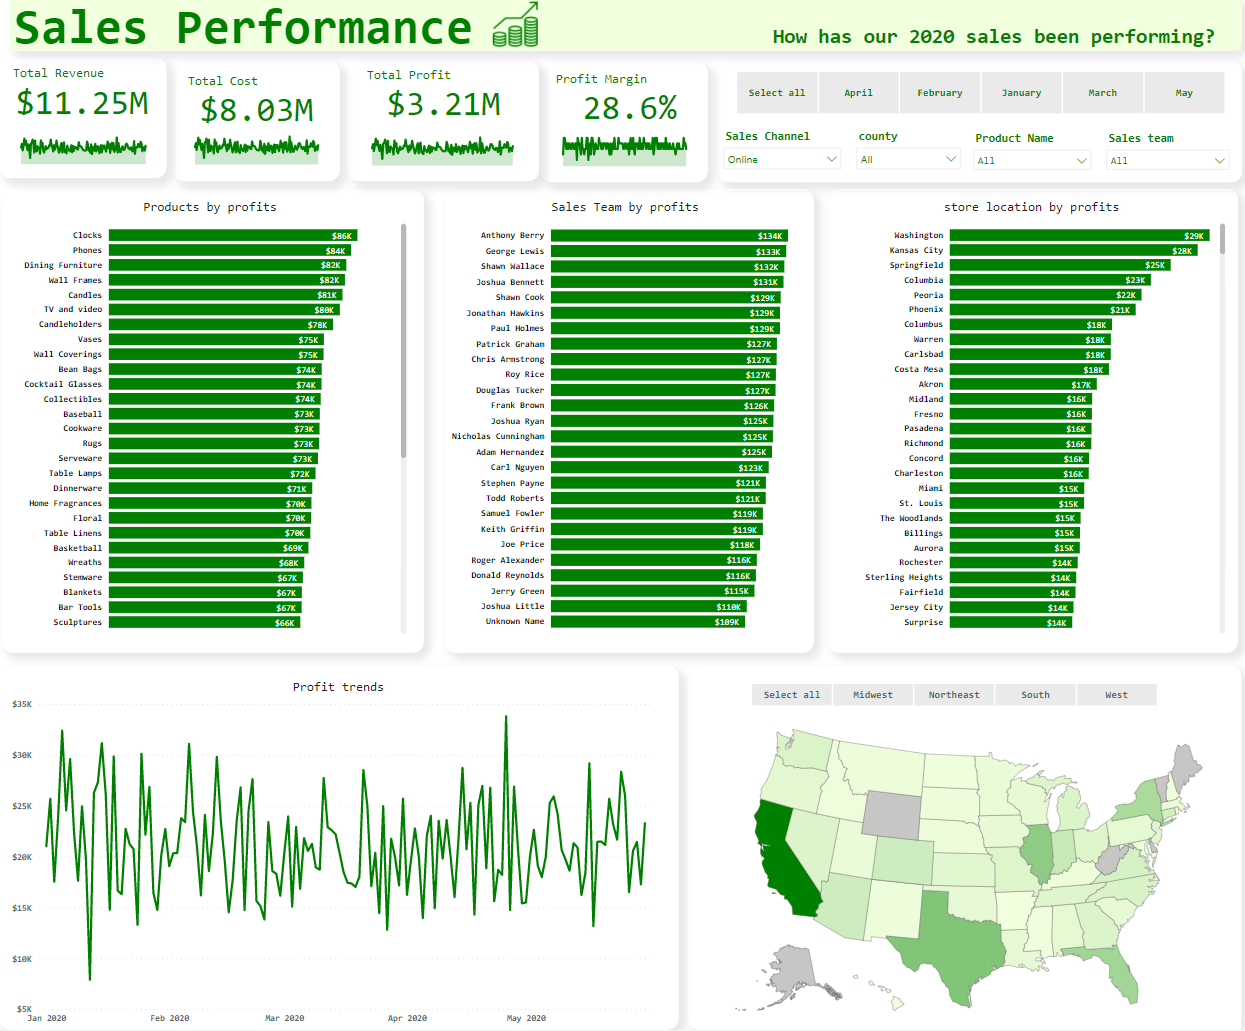

What the dashboard file says about the page in this screenshot:
{"tool":"powerbi","page":{"name":"Sales performance","canvas":[1700,1400],"ordinal":0},"visuals":[{"type":"shape","box":[974.7,86.8,711.1,163.3],"z":0},{"type":"shape","box":[933.9,906.7,751.9,493.3],"z":1000},{"type":"shape","box":[0,906.7,922,493.3],"z":2000},{"type":"shape","box":[605.6,258.6,500.1,629.4],"z":3000},{"type":"shape","box":[3.4,258.6,571.6,629.4],"z":4000},{"type":"shape","box":[1124.4,258.6,556.3,629.4],"z":5000},{"type":"shape","box":[236.2,84.8,226.2,163.3],"z":6000},{"type":"shape","box":[734.9,86.8,226.2,163.3],"z":7000},{"type":"shape","box":[472.9,85.1,258.6,163.3],"z":8000},{"type":"shape","box":[0,80.5,227.2,164.3],"z":9000},{"type":"card","title":"Total Revenue","fields":{"Values":["Sales.Total Revenue"]},"box":[13.2,90.4,198.5,72.8],"z":10000},{"type":"stackedAreaChart","fields":{"Y":["Sales.Total Revenue"],"Category":["Sales.Sales Date"]},"box":[15.3,165,199,66.3],"z":11000},{"type":"card","title":"Total Profit","fields":{"Values":["Sales.Total Profit"]},"box":[493.3,93.6,219.4,73.1],"z":12000},{"type":"stackedAreaChart","fields":{"Y":["Sales.Total Profit"],"Category":["Sales.Sales Date"]},"box":[491.6,168.4,221.1,64.6],"z":13000},{"type":"barChart","title":"Products by profits","fields":{"Category":["Products.Product Name"],"Y":["Sales.Total Profit"]},"box":[15.3,272.2,542.6,595.4],"z":14000},{"type":"shapeMap","fields":{"Category":["Regions.State"],"Value":["Sales.Total Revenue"]},"box":[947.5,966.2,738.3,433.8],"z":15000},{"type":"barChart","title":"Sales Team by profits","fields":{"Y":["Sales.Total Profit"],"Category":["Sales_Team.Sales Team"]},"box":[607.3,272.2,483.1,595.4],"z":16000},{"type":"barChart","title":"store location by profits","fields":{"Y":["Sales.Total Profit"],"Category":["Store_Location.name"]},"box":[1132.9,272.2,535.8,595.4],"z":17000},{"type":"lineChart","title":"Profit trends","fields":{"Y":["Sales.Total Profit"],"Category":["Sales.Sales Date"]},"box":[11.9,923.7,896.5,476.3],"z":18000},{"type":"card","title":"Profit Margin","fields":{"Values":["Sales.Profit Margin"]},"box":[750.2,98.7,210.9,73.1],"z":19000},{"type":"stackedAreaChart","fields":{"Y":["Sales.Profit Margin"],"Category":["Sales.Sales Date"]},"box":[750.2,168.4,197.3,64.6],"z":20000},{"type":"card","title":"Total Cost","fields":{"Values":["Sales.Total Cost"]},"box":[251.6,101.9,197.3,73.1],"z":21000},{"type":"stackedAreaChart","fields":{"Y":["Sales.Total Cost"],"Category":["Sales.Sales Date"]},"box":[251.6,166.5,197.3,64.6],"z":22000},{"type":"slicer","fields":{"Values":["Regions.Region"]},"box":[995.1,923.7,598.8,42.5],"z":23000},{"type":"slicer","fields":{"Values":["Sales.Sales Channel"]},"box":[973,171.8,180.3,69.7],"z":24000},{"type":"slicer","fields":{"Values":["Store_Location.county"]},"box":[1153.3,171.8,161.6,69.7],"z":25000},{"type":"slicer","fields":{"Values":["Products.Product Name"]},"box":[1311.5,175.2,180.3,69.7],"z":26000},{"type":"slicer","fields":{"Values":["Store_Location.name"]},"box":[1491.9,175.2,187.1,66.3],"z":27000},{"type":"shape","box":[11.9,0,1673.9,71.4],"z":28000},{"type":"slicer","fields":{"Values":["Sales.Month Name"]},"box":[974.7,93.6,711.1,69.7],"z":29000},{"type":"textbox","title":"Sales Performance","box":[15.3,0,1670.5,71.4],"z":29001},{"type":"image","box":[634.5,0,131,71.4],"z":29002},{"type":"textbox","title":"How has our 2020 sales been performing?","box":[1044.5,35.7,654.9,34],"z":29003}]}

Visuals, with their boxes on the page's 1700x1400 design canvas (x1, y1, x2, y2). These are canvas units, not pixel positions in the 1245x1031 screenshot, which may show the page scaled, cropped or inside an application window:
shape: {"left": 975, "top": 87, "right": 1686, "bottom": 250}
shape: {"left": 934, "top": 907, "right": 1686, "bottom": 1400}
shape: {"left": 0, "top": 907, "right": 922, "bottom": 1400}
shape: {"left": 606, "top": 259, "right": 1106, "bottom": 888}
shape: {"left": 3, "top": 259, "right": 575, "bottom": 888}
shape: {"left": 1124, "top": 259, "right": 1681, "bottom": 888}
shape: {"left": 236, "top": 85, "right": 462, "bottom": 248}
shape: {"left": 735, "top": 87, "right": 961, "bottom": 250}
shape: {"left": 473, "top": 85, "right": 732, "bottom": 248}
shape: {"left": 0, "top": 80, "right": 227, "bottom": 245}
"Total Revenue" card: {"left": 13, "top": 90, "right": 212, "bottom": 163}
stackedAreaChart - Sales.Total Revenue x Sales.Sales Date: {"left": 15, "top": 165, "right": 214, "bottom": 231}
"Total Profit" card: {"left": 493, "top": 94, "right": 713, "bottom": 167}
stackedAreaChart - Sales.Total Profit x Sales.Sales Date: {"left": 492, "top": 168, "right": 713, "bottom": 233}
"Products by profits" barChart: {"left": 15, "top": 272, "right": 558, "bottom": 868}
shapeMap - Regions.State x Sales.Total Revenue: {"left": 948, "top": 966, "right": 1686, "bottom": 1400}
"Sales Team by profits" barChart: {"left": 607, "top": 272, "right": 1090, "bottom": 868}
"store location by profits" barChart: {"left": 1133, "top": 272, "right": 1669, "bottom": 868}
"Profit trends" lineChart: {"left": 12, "top": 924, "right": 908, "bottom": 1400}
"Profit Margin" card: {"left": 750, "top": 99, "right": 961, "bottom": 172}
stackedAreaChart - Sales.Profit Margin x Sales.Sales Date: {"left": 750, "top": 168, "right": 948, "bottom": 233}
"Total Cost" card: {"left": 252, "top": 102, "right": 449, "bottom": 175}
stackedAreaChart - Sales.Total Cost x Sales.Sales Date: {"left": 252, "top": 166, "right": 449, "bottom": 231}
slicer - Regions.Region: {"left": 995, "top": 924, "right": 1594, "bottom": 966}
slicer - Sales.Sales Channel: {"left": 973, "top": 172, "right": 1153, "bottom": 242}
slicer - Store_Location.county: {"left": 1153, "top": 172, "right": 1315, "bottom": 242}
slicer - Products.Product Name: {"left": 1312, "top": 175, "right": 1492, "bottom": 245}
slicer - Store_Location.name: {"left": 1492, "top": 175, "right": 1679, "bottom": 242}
shape: {"left": 12, "top": 0, "right": 1686, "bottom": 71}
slicer - Sales.Month Name: {"left": 975, "top": 94, "right": 1686, "bottom": 163}
"Sales Performance" textbox: {"left": 15, "top": 0, "right": 1686, "bottom": 71}
image: {"left": 634, "top": 0, "right": 766, "bottom": 71}
"How has our 2020 sales been performing?" textbox: {"left": 1044, "top": 36, "right": 1699, "bottom": 70}
